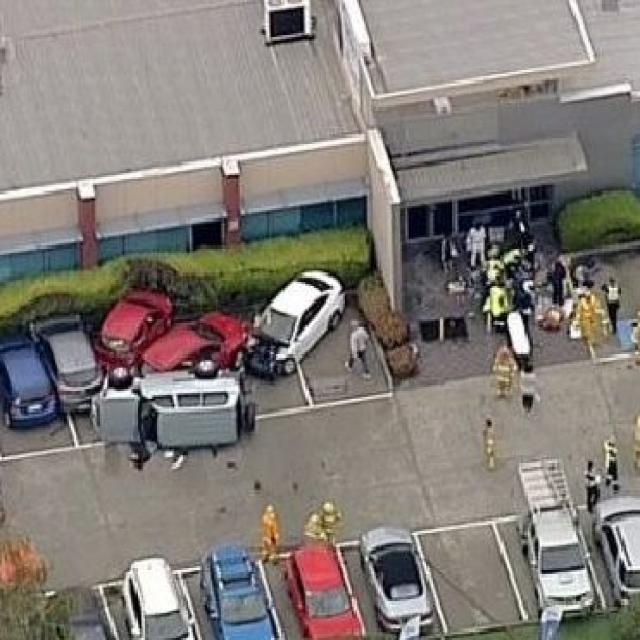traffic_incident: (90, 364, 248, 467), (245, 266, 340, 378), (136, 302, 244, 372), (98, 276, 171, 368)
